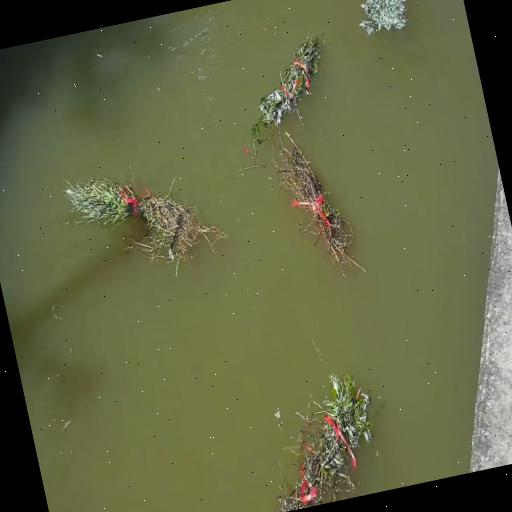twig: (63, 177, 226, 262), (277, 371, 371, 512), (275, 131, 360, 267), (251, 35, 320, 135), (359, 0, 406, 35)
